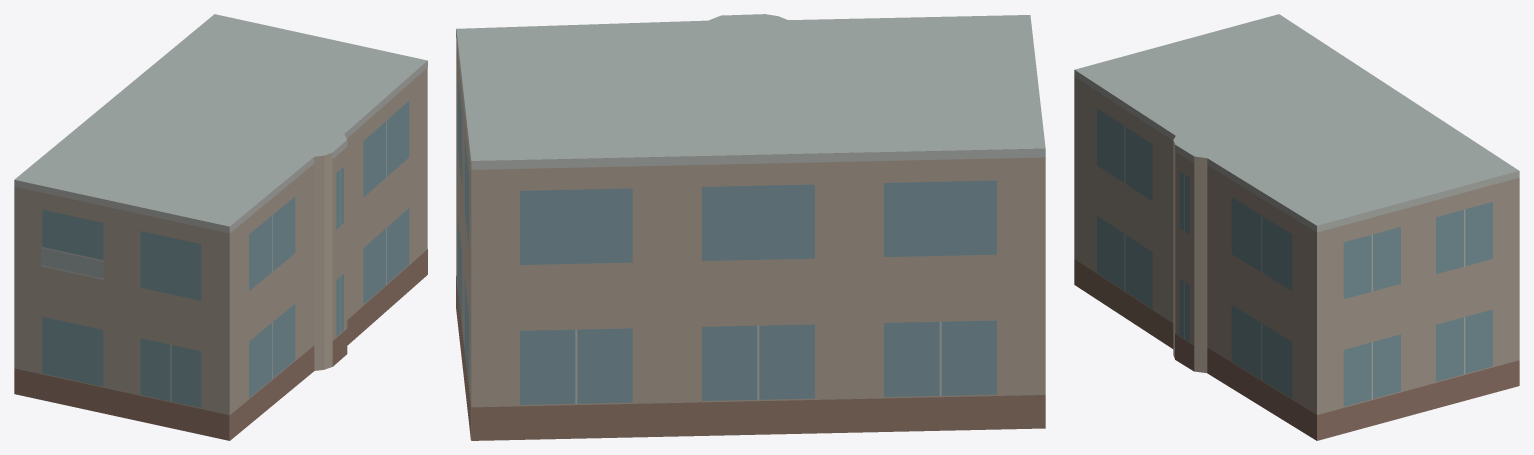
The model's file is survey-upis-32613079.glb.
3 views of the same model, side by side, from view 1: azimuth 30°, elevation 25°; view 2: azimuth 150°, elevation 25°; view 3: azimuth 270°, elevation 25° (orthographic). The views are drawn at different scales.
Parts seen in each view (by area): view 1: survey-upis-32613079.tmp; view 2: survey-upis-32613079.tmp; view 3: survey-upis-32613079.tmp.
Part boxes in pixels (box(x1,y1,x2,y2)): survey-upis-32613079.tmp: box(14, 14, 427, 440); survey-upis-32613079.tmp: box(456, 14, 1045, 440); survey-upis-32613079.tmp: box(1074, 14, 1519, 440).
Bounding box in the file's own units: 16.27 × 7.7 × 14.45.
